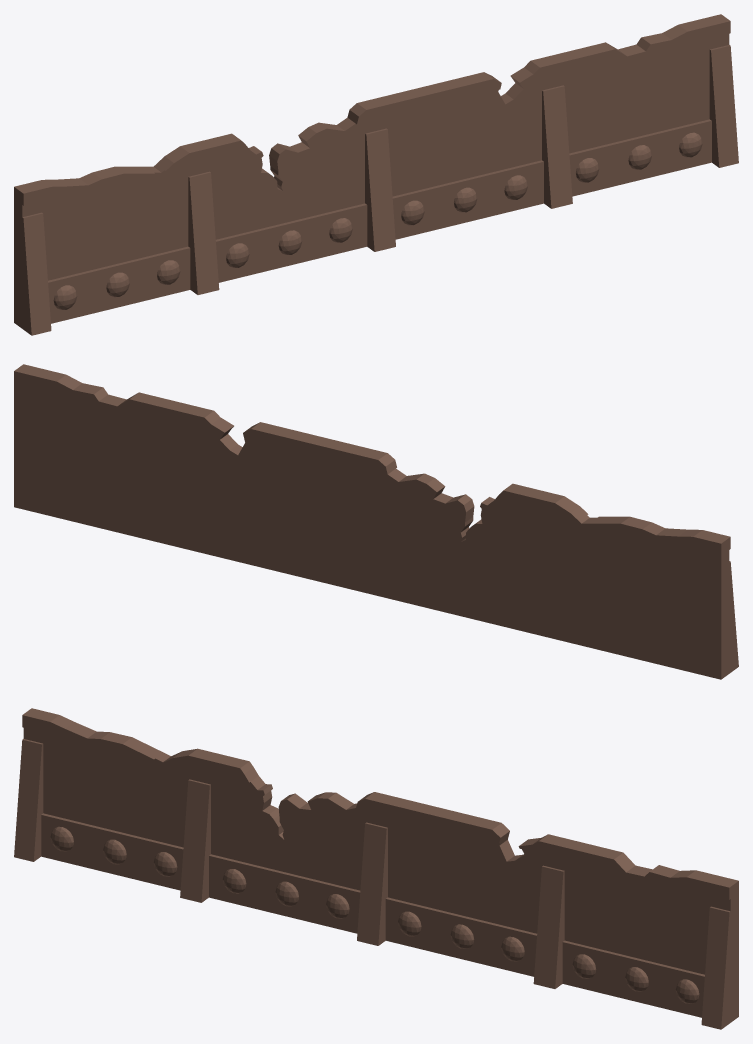
The model's file is 14 Wall.FBX.
The picture shows the model from 3 angles, top to bottom: view 1: azimuth 30°, elevation 25°; view 2: azimuth 150°, elevation 25°; view 3: azimuth 330°, elevation 25°; orthographic projection.
Visible parts, largest first — view 1: Wall; view 2: Wall; view 3: Wall.
Part boxes in pixels (x1=…): Wall: x1=14, y1=14, x2=738, y2=335; Wall: x1=14, y1=364, x2=738, y2=679; Wall: x1=14, y1=708, x2=738, y2=1029.
Size of the model in its own units: 9881 by 1817 by 430.
